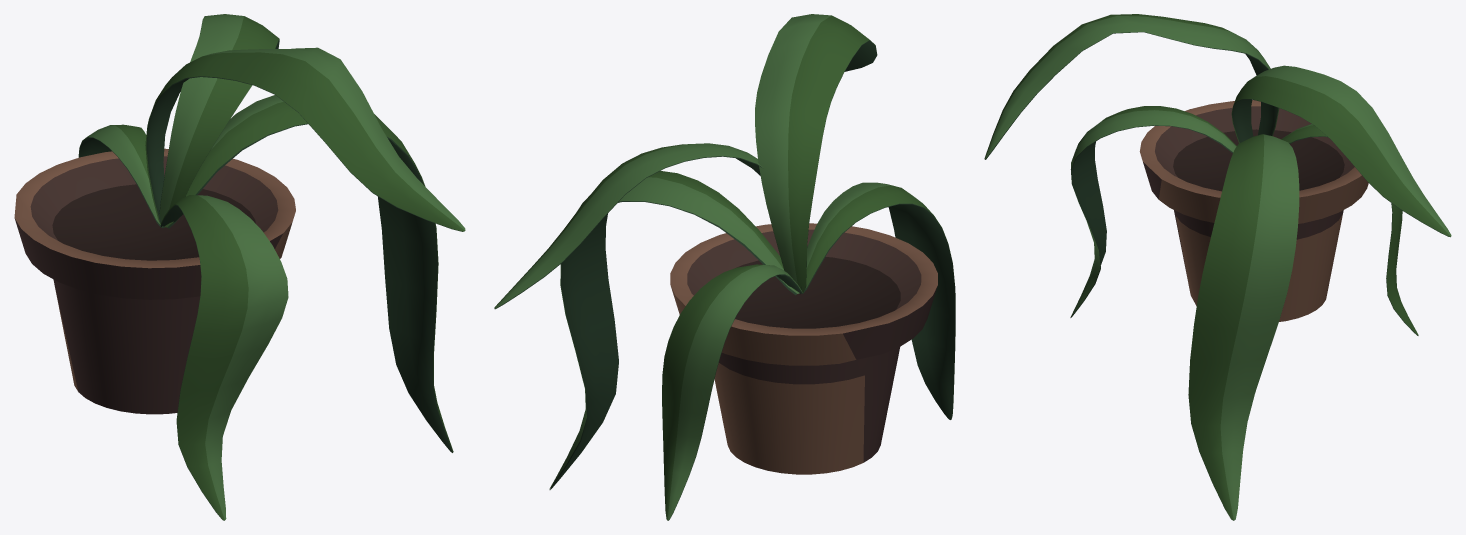
Rendered from pot1.glb.
The picture shows the model from 3 angles, left to right: view 1: azimuth 30°, elevation 25°; view 2: azimuth 150°, elevation 25°; view 3: azimuth 270°, elevation 25°; orthographic projection. The views are drawn at different scales.
Parts seen in each view (by area): view 1: potted-plant; view 2: potted-plant; view 3: potted-plant.
Part boxes in pixels (x1=…): potted-plant: x1=14, y1=14, x2=465, y2=520; potted-plant: x1=494, y1=14, x2=955, y2=520; potted-plant: x1=984, y1=14, x2=1451, y2=520.
Bounding box in the file's own units: 2.1 × 2.45 × 2.49.
